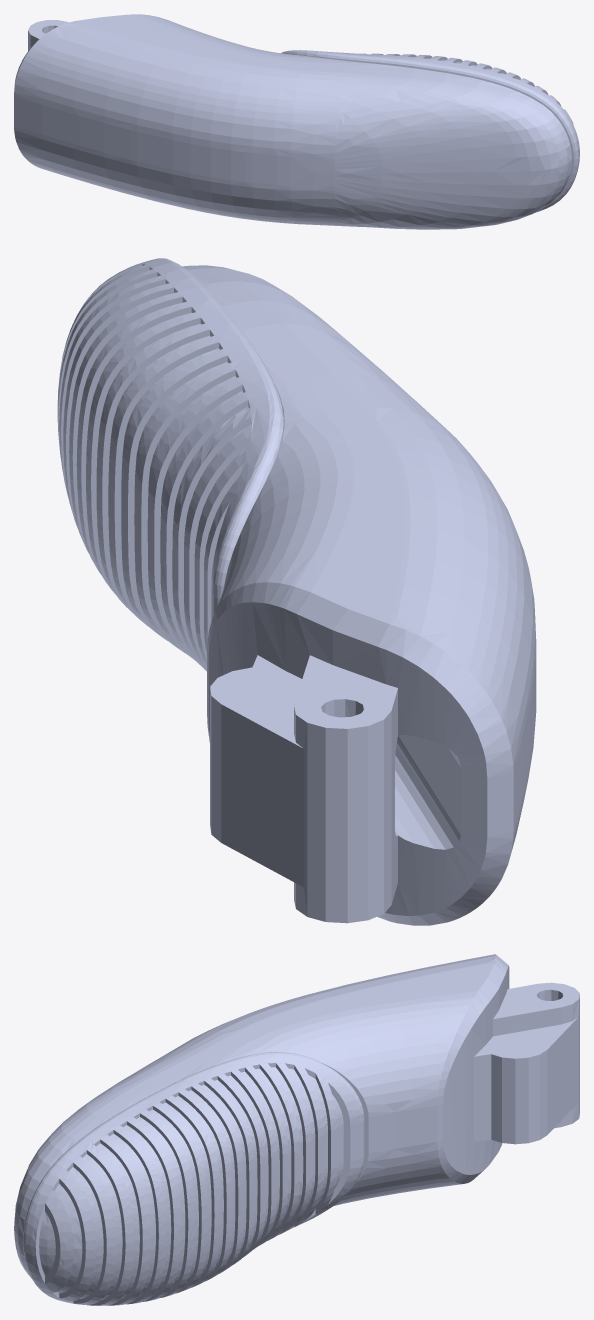
The model's file is lh_pinky_distal_vis.obj.
3 views of the same model, one above another, from view 1: azimuth 30°, elevation 25°; view 2: azimuth 150°, elevation 25°; view 3: azimuth 270°, elevation 25° (orthographic). The views are drawn at different scales.
Parts seen in each view (by area): view 1: lh_pinky_distal; view 2: lh_pinky_distal; view 3: lh_pinky_distal.
Part boxes in pixels (x1=…): lh_pinky_distal: x1=14, y1=14, x2=579, y2=229; lh_pinky_distal: x1=57, y1=258, x2=536, y2=925; lh_pinky_distal: x1=14, y1=954, x2=579, y2=1305.
Size of the model in its own units: 0.0408 by 0.0159 by 0.042.
Materials: 1 (1 with a texture image).
